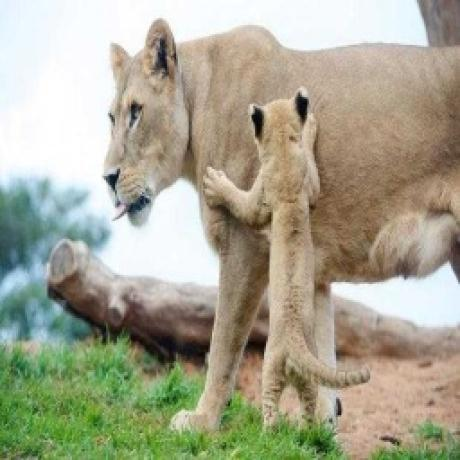Lion: (91, 11, 460, 444), (205, 90, 369, 438)
